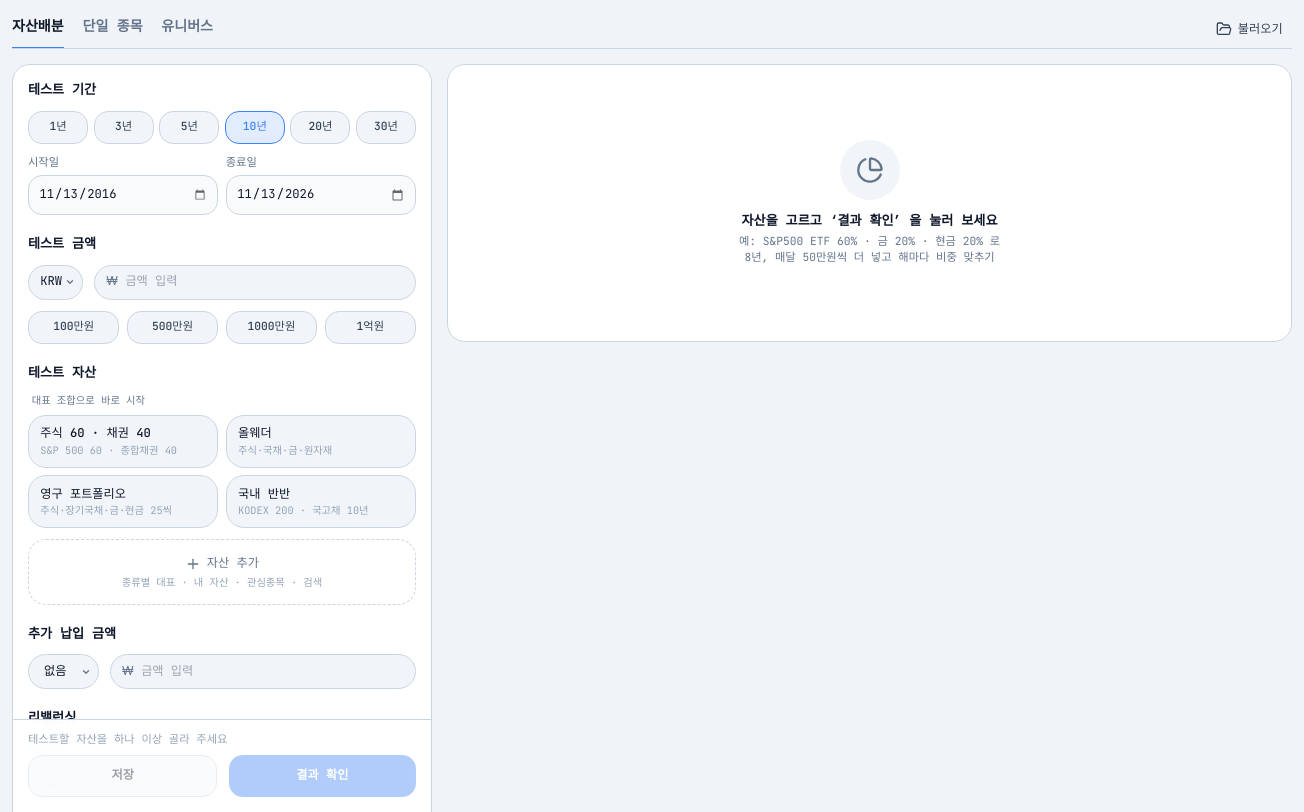
2) 진행률 % › 단일 종목 — 진행 열쇠를 실어 보내고 서버가 적은 진행을 %로
Click the tab "단일 종목".
click(113, 30)  # box [82,12,143,49]
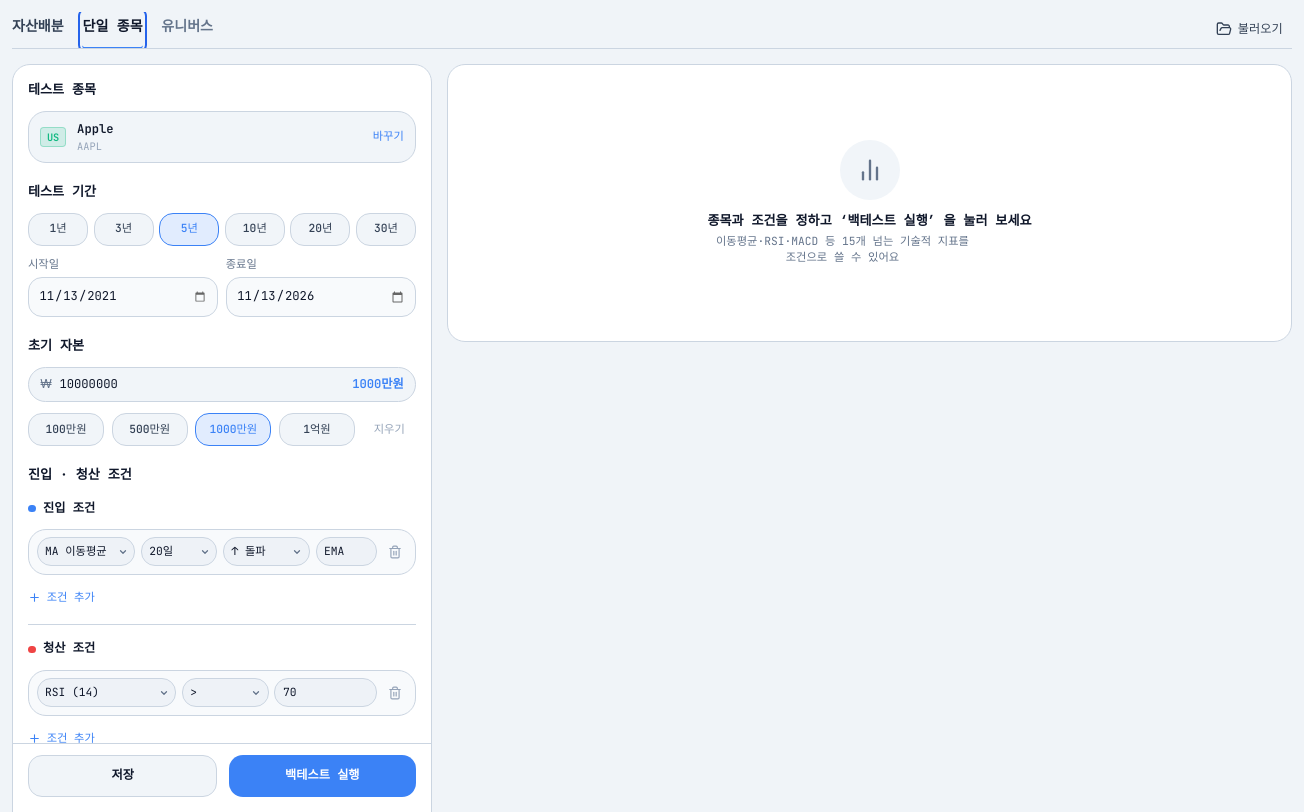
Click the button "백테스트 실행".
click(322, 776)  # box [229,755,416,797]
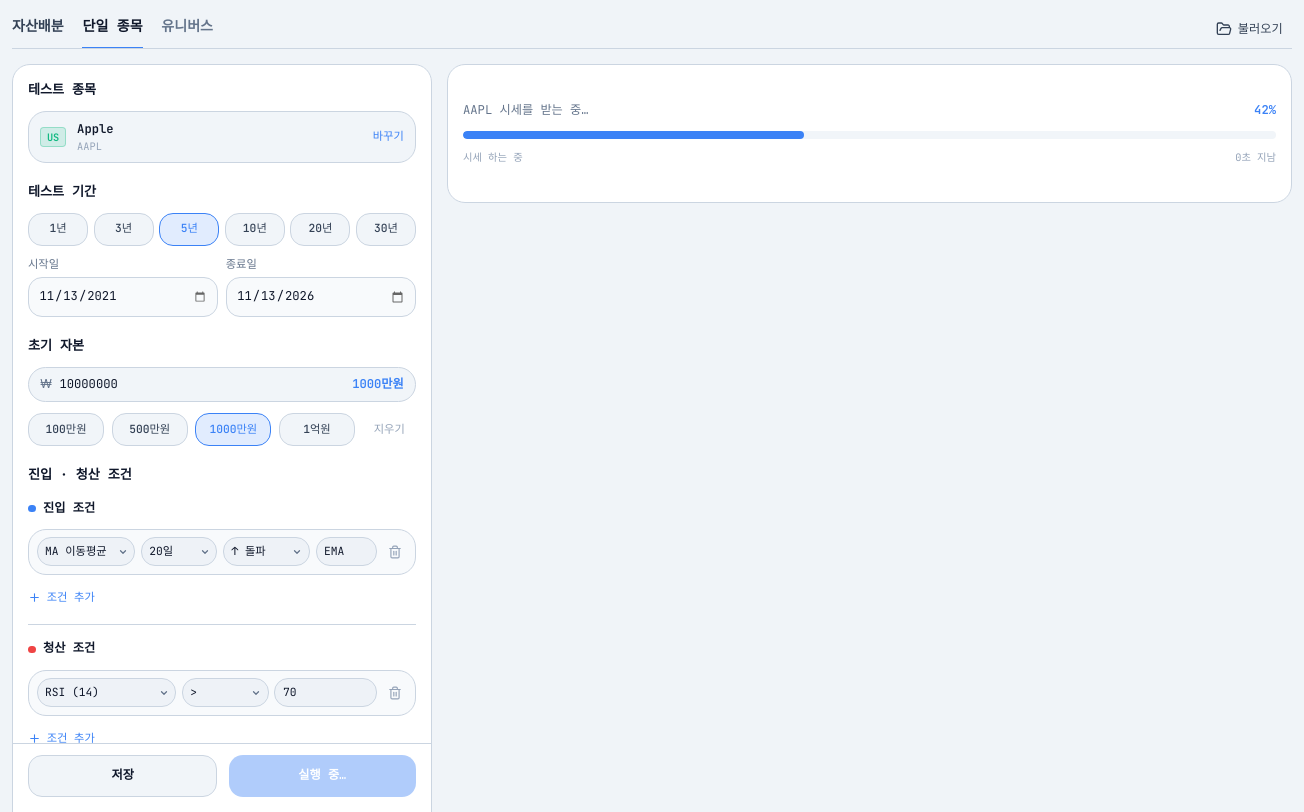
Check: the text "42%" is shown, box [1254,102,1276,120]
Check: the text "AAPL 시세를 받는 중…" is shown, box [463,102,589,120]
